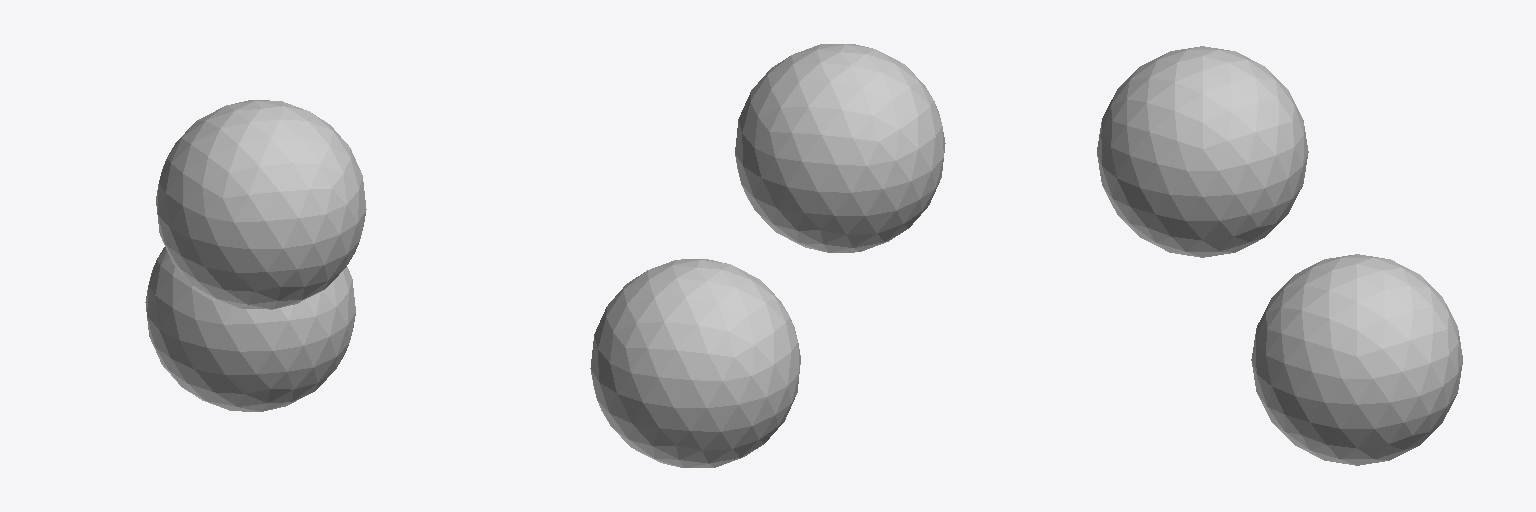
Rendered from two_spheres_medium.obj.
The picture shows the model from 3 angles: view 1: azimuth 30°, elevation 25°; view 2: azimuth 150°, elevation 25°; view 3: azimuth 270°, elevation 25°; orthographic projection.
Visible parts, largest first — view 1: Icosphere.003_Icosphere.009, Icosphere.002_Icosphere.008; view 2: Icosphere.002_Icosphere.008, Icosphere.003_Icosphere.009; view 3: Icosphere.002_Icosphere.008, Icosphere.003_Icosphere.009.
Boxes of the visible parts, x1,y1,x2,y2 form: Icosphere.003_Icosphere.009: [156, 100, 366, 309]; Icosphere.002_Icosphere.008: [145, 247, 355, 411]; Icosphere.002_Icosphere.008: [590, 259, 800, 467]; Icosphere.003_Icosphere.009: [735, 44, 945, 252]; Icosphere.002_Icosphere.008: [1251, 254, 1462, 465]; Icosphere.003_Icosphere.009: [1097, 46, 1308, 257].
Bounding box in the file's own units: 0.7479 × 1.05 × 0.9479.